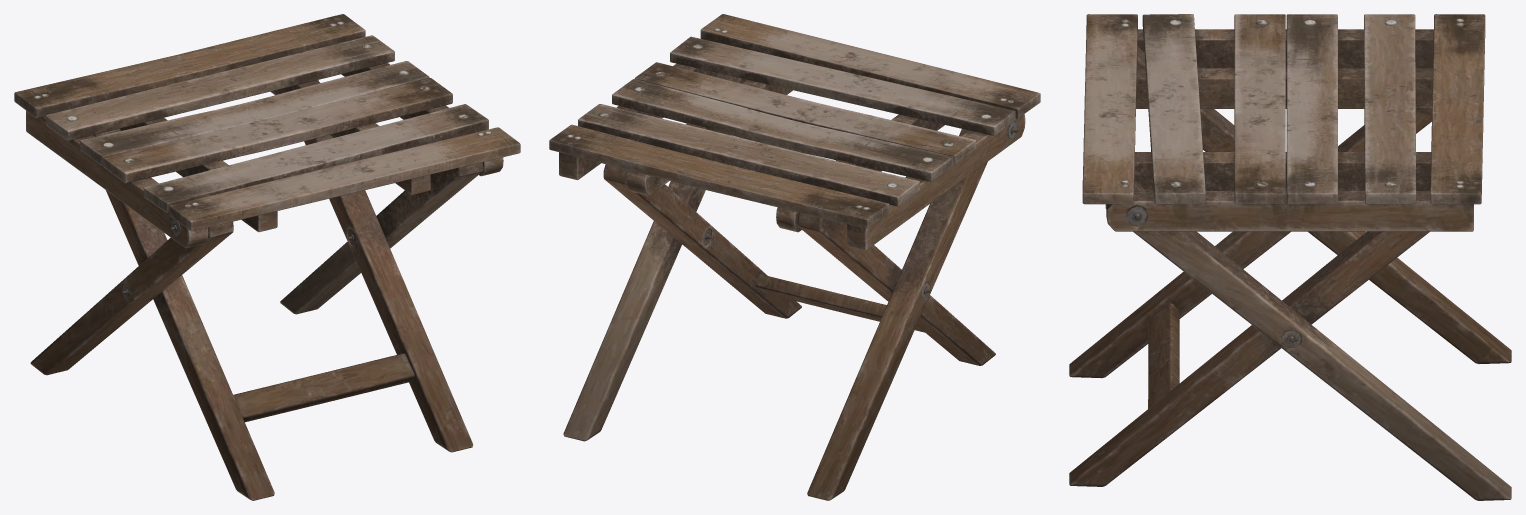
3 renders of one model, left to right at view 1: azimuth 30°, elevation 25°; view 2: azimuth 150°, elevation 25°; view 3: azimuth 270°, elevation 25°, orthographic. The views are drawn at different scales.
Parts seen in each view (by area): view 1: folding_wooden_stool; view 2: folding_wooden_stool; view 3: folding_wooden_stool.
Boxes of the visible parts, x1,y1,x2,y2 form: folding_wooden_stool: (14,14,520,500); folding_wooden_stool: (549,14,1040,500); folding_wooden_stool: (1069,14,1511,500).
Bounding box in the file's own units: 0.5278 × 0.442 × 0.5471.
Materials: 1 (1 with a texture image).
